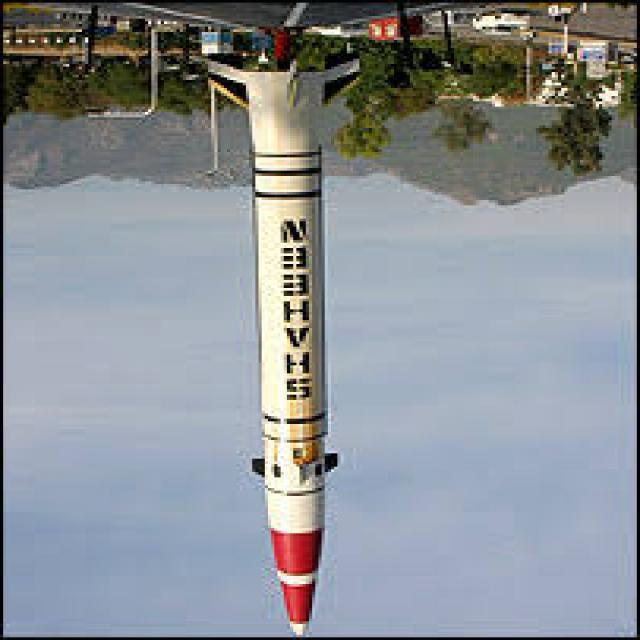Missile: (228, 64, 347, 629)
